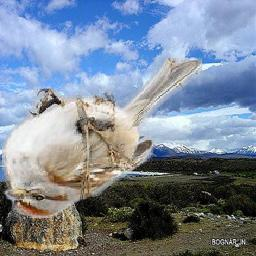Sparrow: (2, 58, 202, 218)
